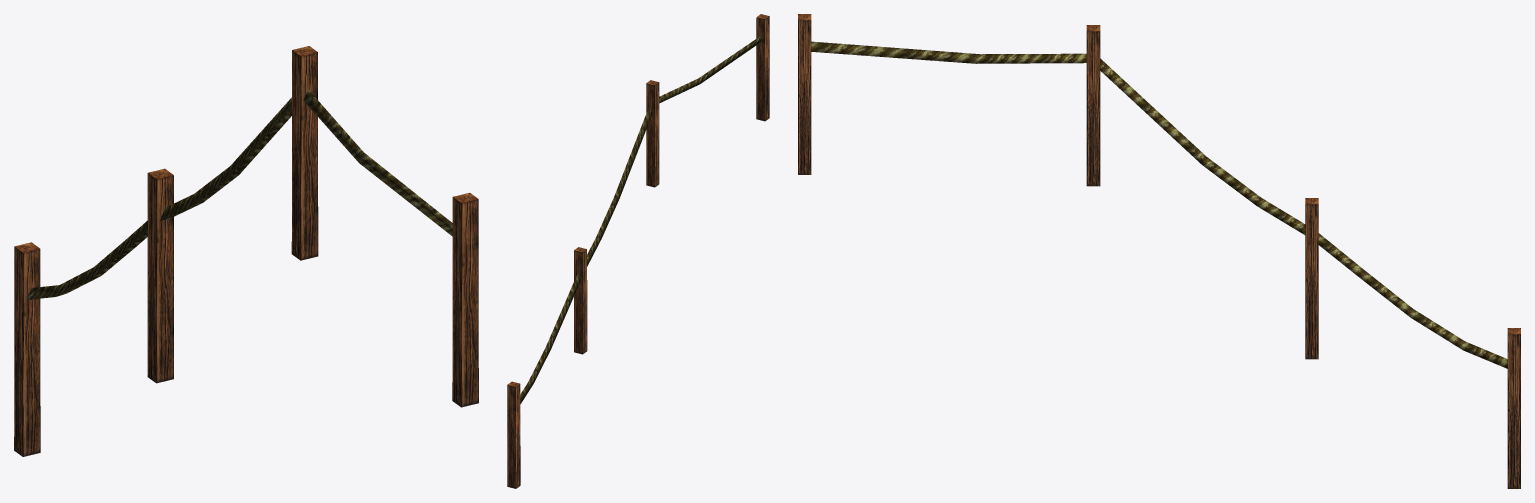
The model's file is LAKETOWN_PUB_PS_PUB_HANDRAIL7575__GX.fbx.
3 renders of one model, left to right at view 1: azimuth 30°, elevation 25°; view 2: azimuth 150°, elevation 25°; view 3: azimuth 270°, elevation 25°, orthographic. The views are drawn at different scales.
Visible parts, largest first — view 1: LAKETOWN_PUB_PS_PUB_HANDRAIL7575__GX; view 2: LAKETOWN_PUB_PS_PUB_HANDRAIL7575__GX; view 3: LAKETOWN_PUB_PS_PUB_HANDRAIL7575__GX.
Part boxes in pixels (<box>): LAKETOWN_PUB_PS_PUB_HANDRAIL7575__GX: <box>14,46,478,456</box>; LAKETOWN_PUB_PS_PUB_HANDRAIL7575__GX: <box>507,14,769,488</box>; LAKETOWN_PUB_PS_PUB_HANDRAIL7575__GX: <box>798,14,1520,488</box>.
Size of the model in its own units: 2309 by 28072 by 40203.
3 materials, 3 textured.
